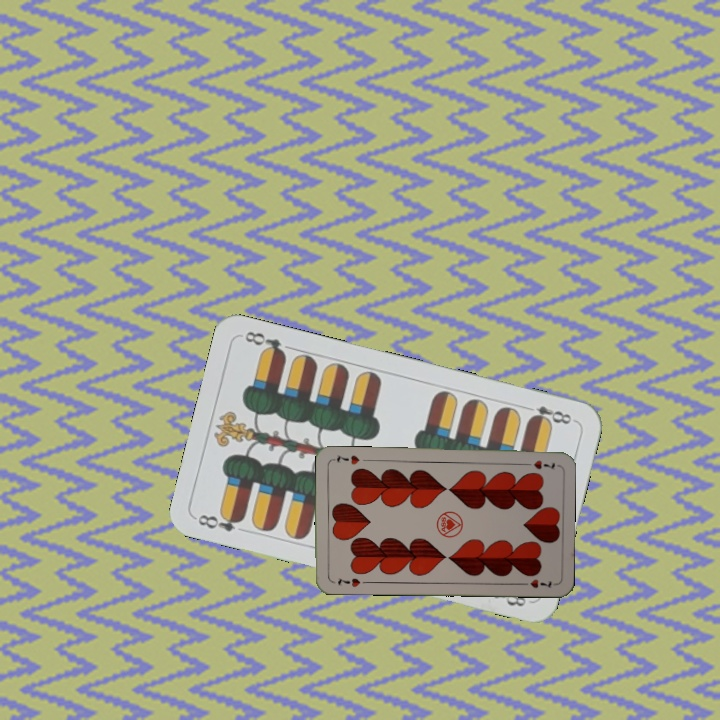E8: (519, 401, 577, 428), (194, 508, 247, 534)
H7: (519, 456, 557, 472), (334, 574, 363, 589)
